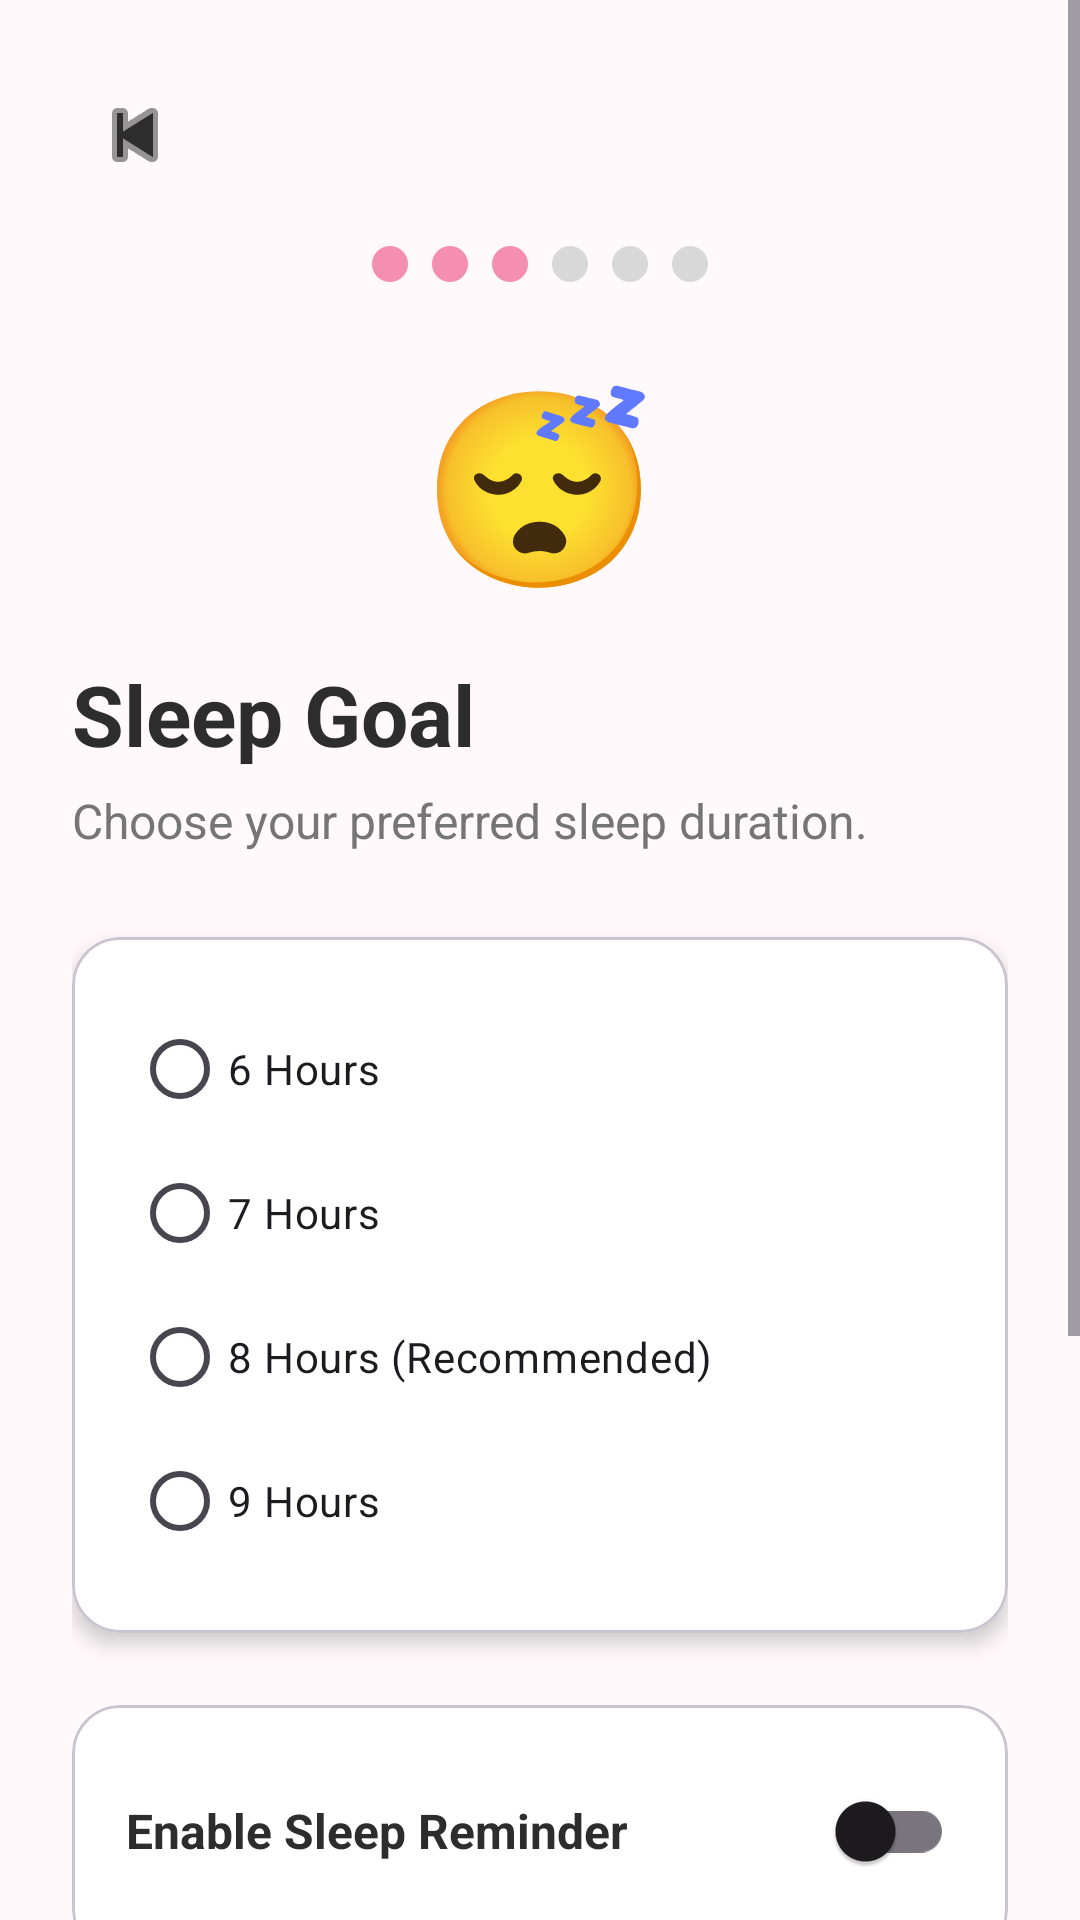

Screen size 1080 x 1920. Icon name, then its box in pixels as [left=x1, top=y1, right=x2, bottom=y2]:
Back: [left=112, top=108, right=158, bottom=162]
